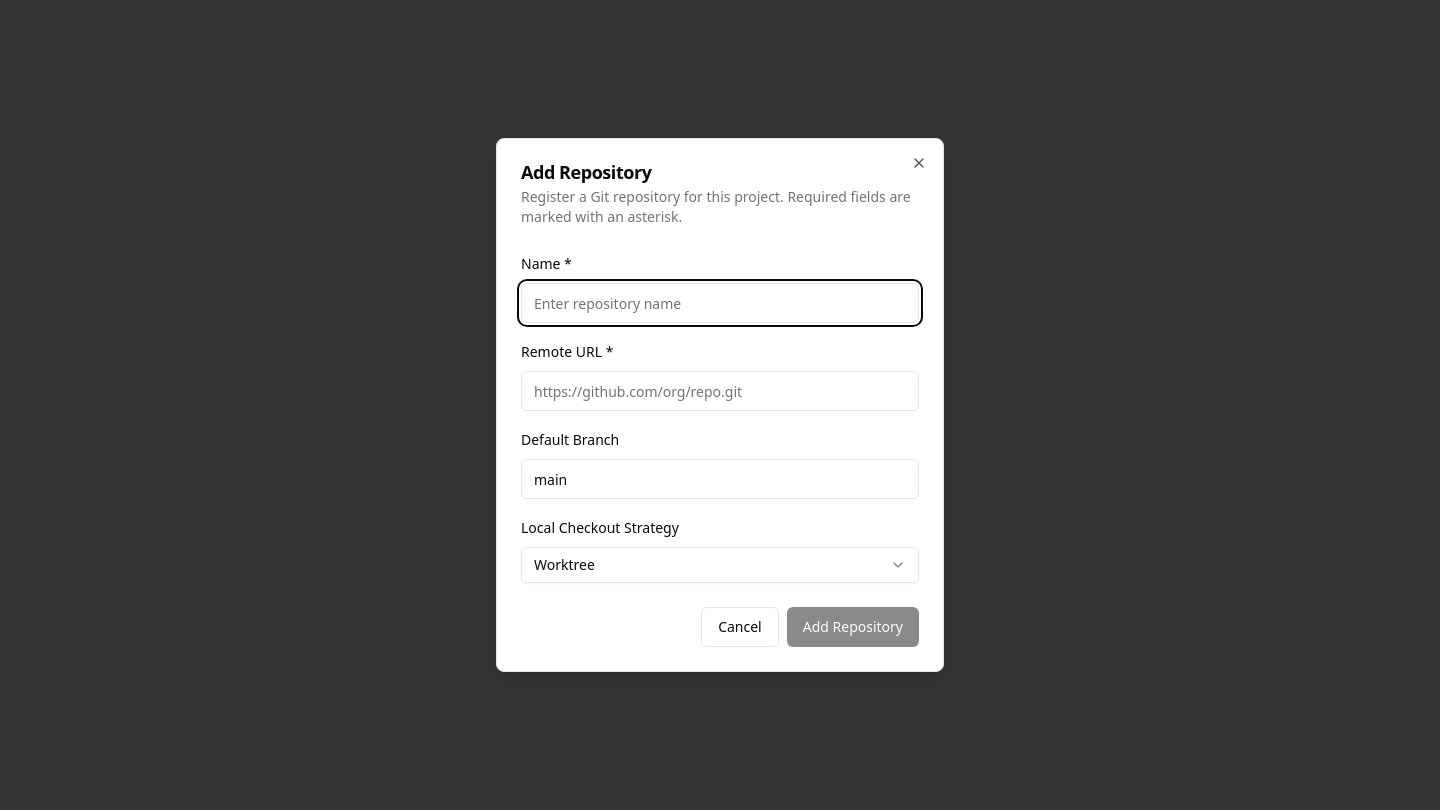
Test: CreateRepositoryDialog › keeps submit disabled when remoteUrl is not a valid URL
This screenshot has width=1440, height=810.
Type "my-repo" into the field with test id "create-repository-name".
click(720, 303); type("my-repo")  # box [521,283,919,323]
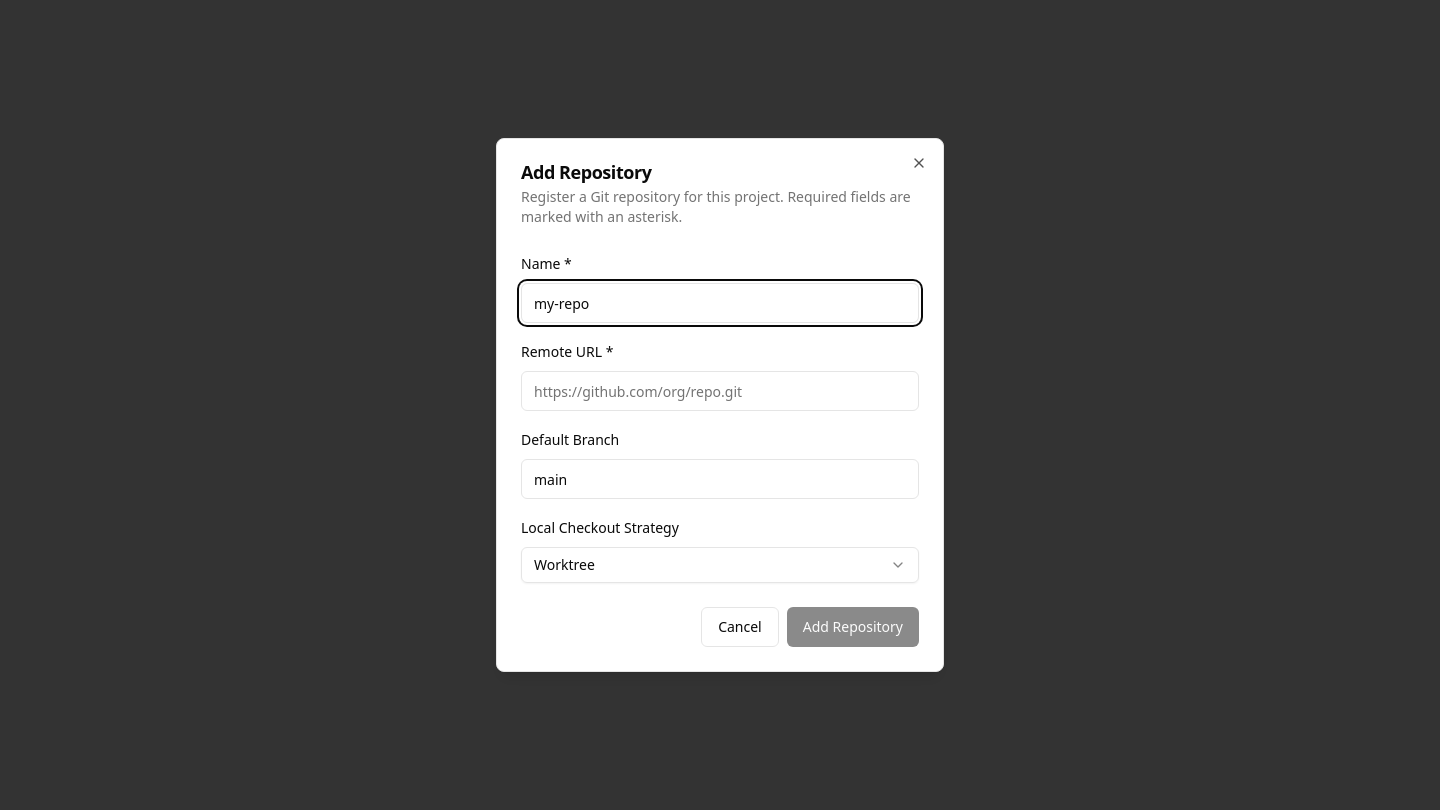
Type "not-a-url" into the field with test id "create-repository-remote-url".
click(720, 391); type("not-a-url")  # box [521,371,919,411]
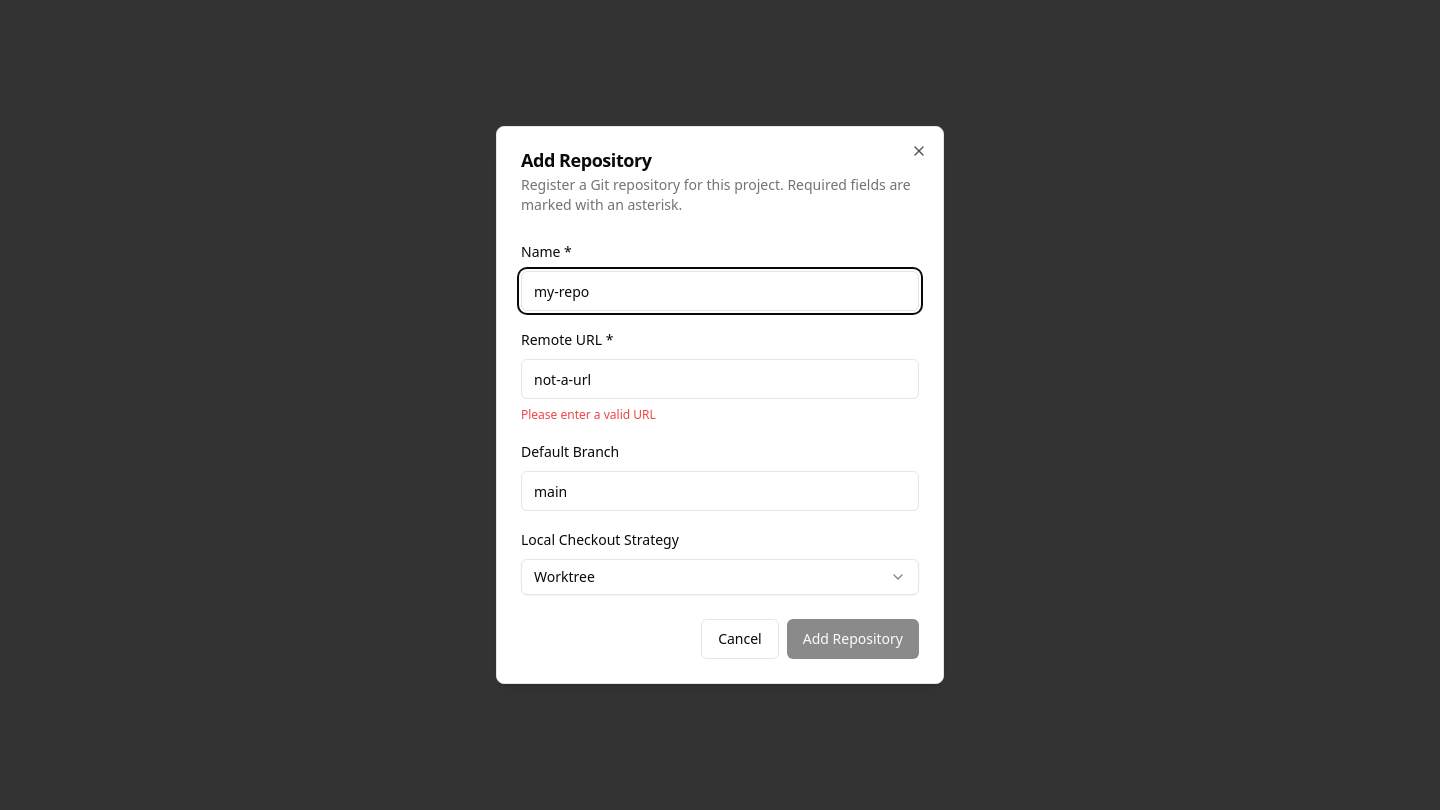
Expected: the button with test id "create-repository-submit" is disabled, [787,619,919,659]
Expected: the text with test id "create-repository-url-error" reads "Please enter a valid URL", [521,406,656,423]
